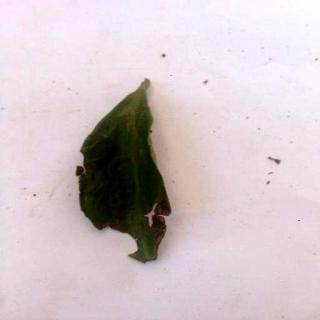Brown Blight: (79, 80, 174, 264)
